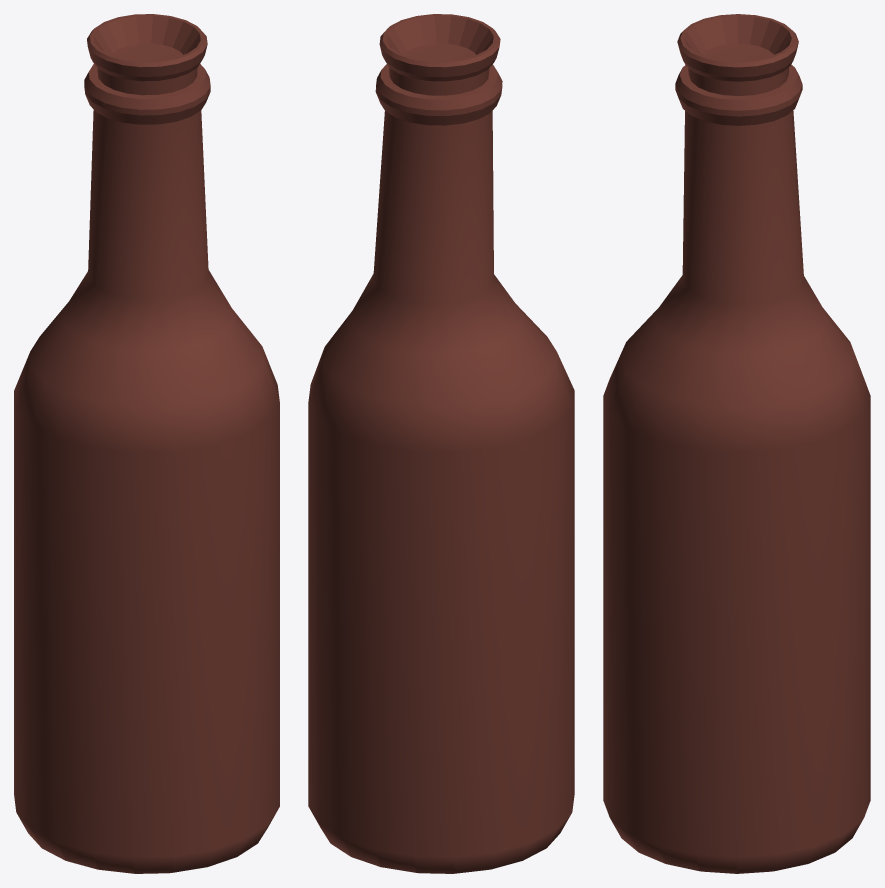
The model's file is Singular_Beer_Bottle.fbx.
3 views of the same model, side by side, from view 1: azimuth 30°, elevation 25°; view 2: azimuth 150°, elevation 25°; view 3: azimuth 270°, elevation 25° (orthographic).
Visible parts, largest first — view 1: pCylinder2; view 2: pCylinder2; view 3: pCylinder2.
Part boxes in pixels (x1=…): pCylinder2: x1=14, y1=14, x2=279, y2=873; pCylinder2: x1=308, y1=14, x2=574, y2=873; pCylinder2: x1=603, y1=14, x2=870, y2=873.
Size of the model in its own units: 0.126 by 0.4108 by 0.126.
